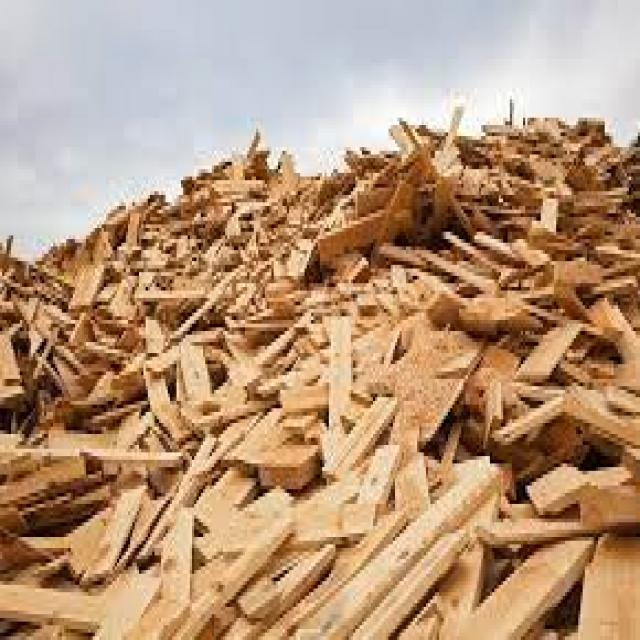green waste: (2, 119, 634, 633)
